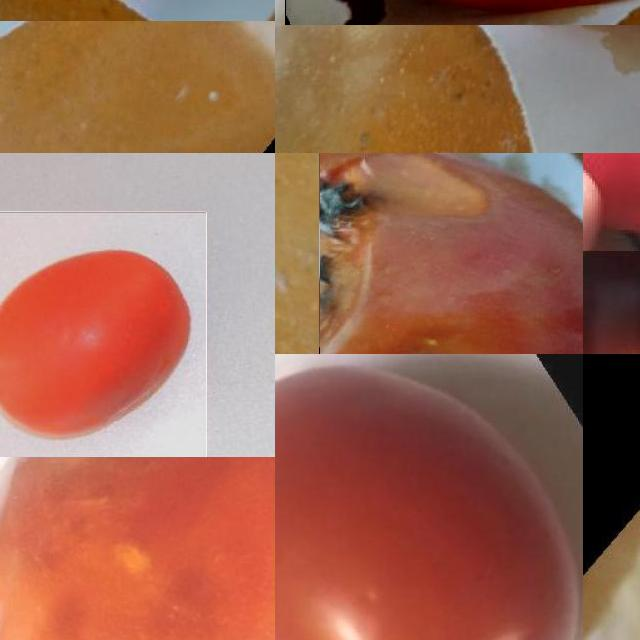Fresh Tomato: (275, 354, 583, 640), (0, 211, 206, 457)
Rotten Tomato: (319, 153, 583, 354), (0, 457, 275, 640)
